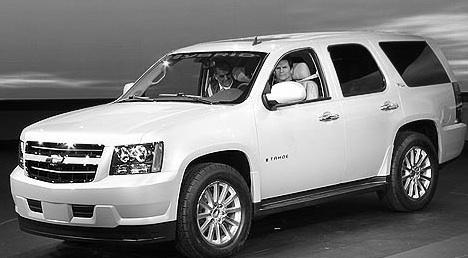car: (9, 34, 468, 257)
